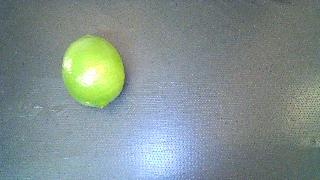EXPORTACION: (62, 35, 125, 108)
